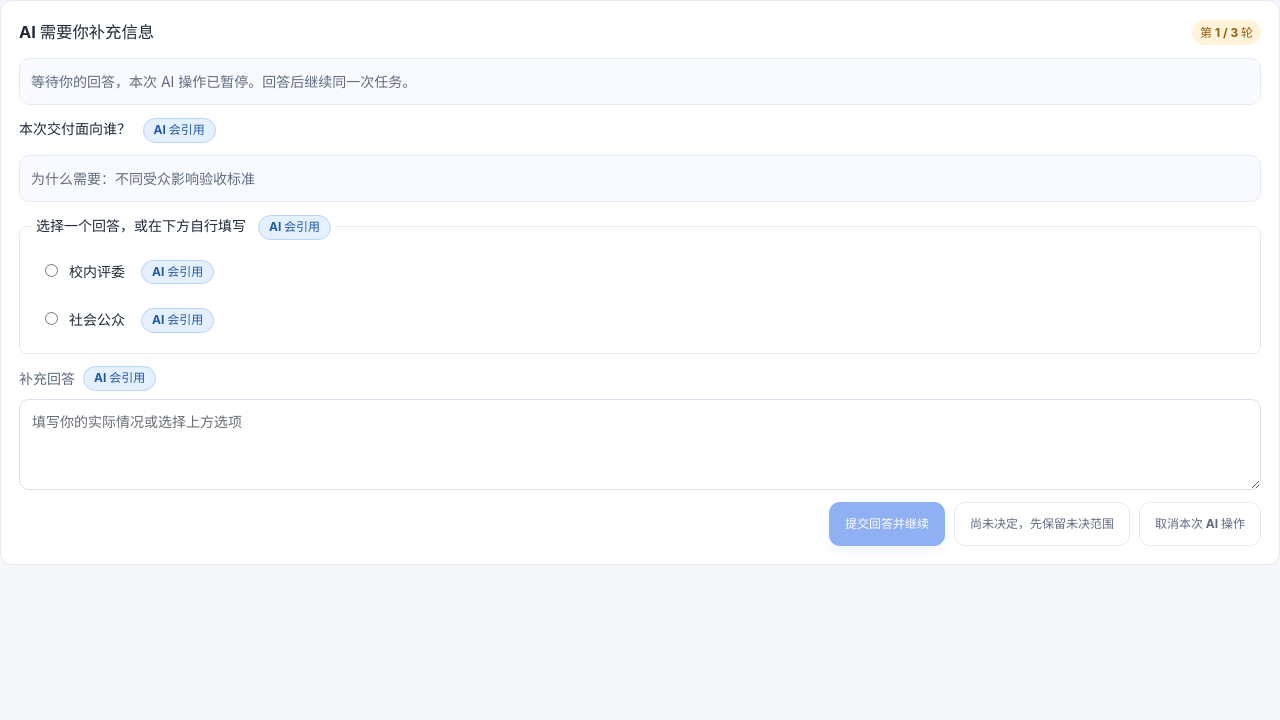
Test: AI clarification input › cancels without submitting an answer and preserves inputs on cancellation error
Later steps or results of the test are not shown.
Click the radio button labelled "社会公众".
click(52, 319)  # box [45,312,58,325]
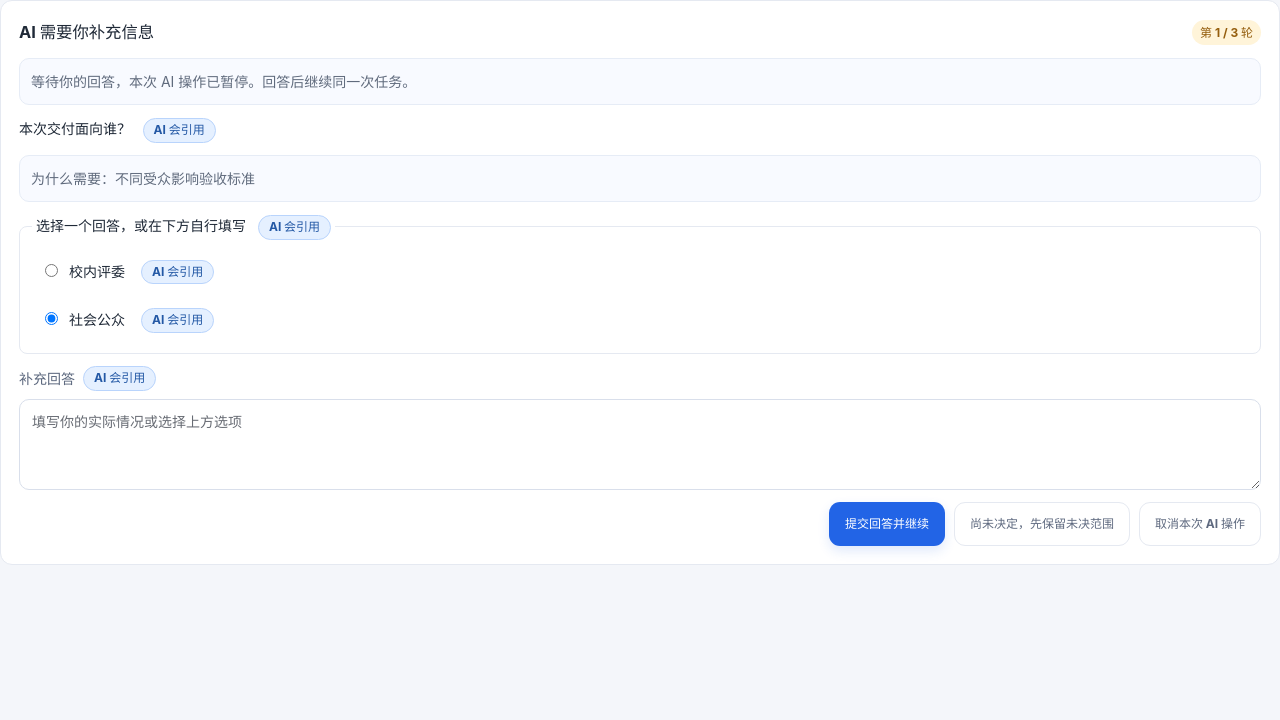
Click the button "取消本次 AI 操作".
click(1200, 524)  # box [1139,502,1261,546]
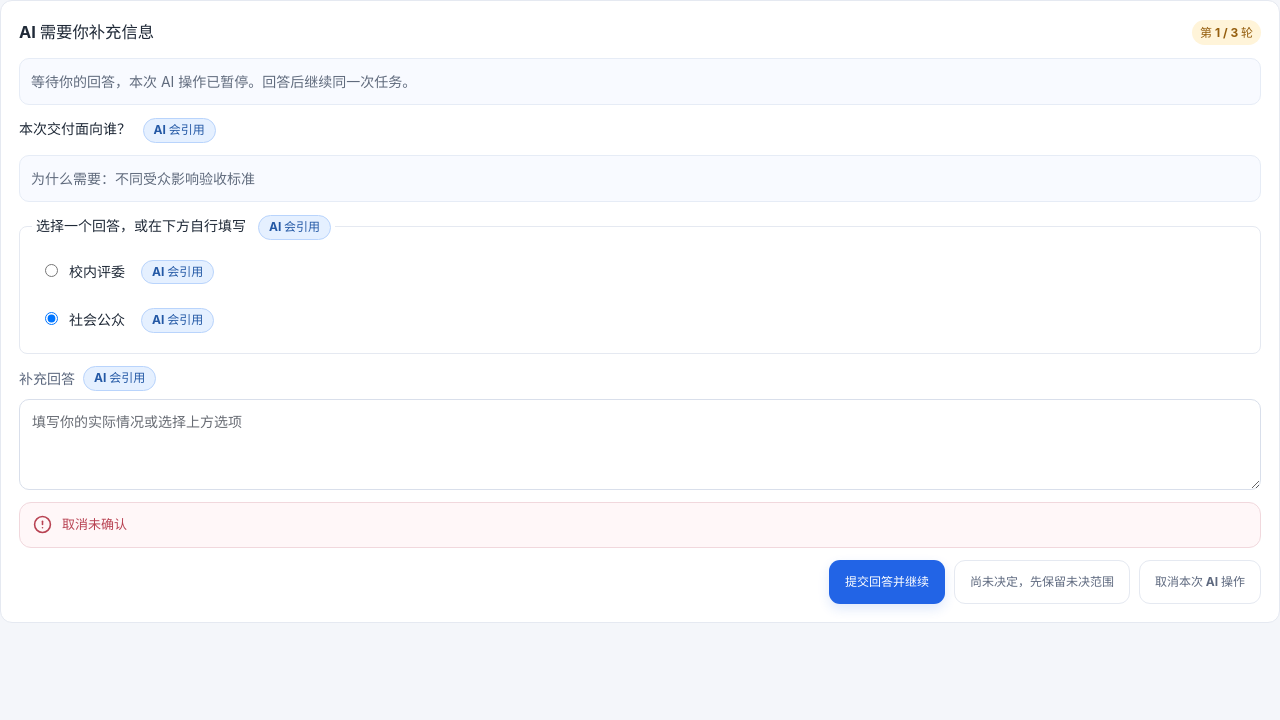
Now the radio button labelled "社会公众" is checked, box [45,312,58,325]
Now the text "取消未确认" is shown, box [62,516,127,532]
